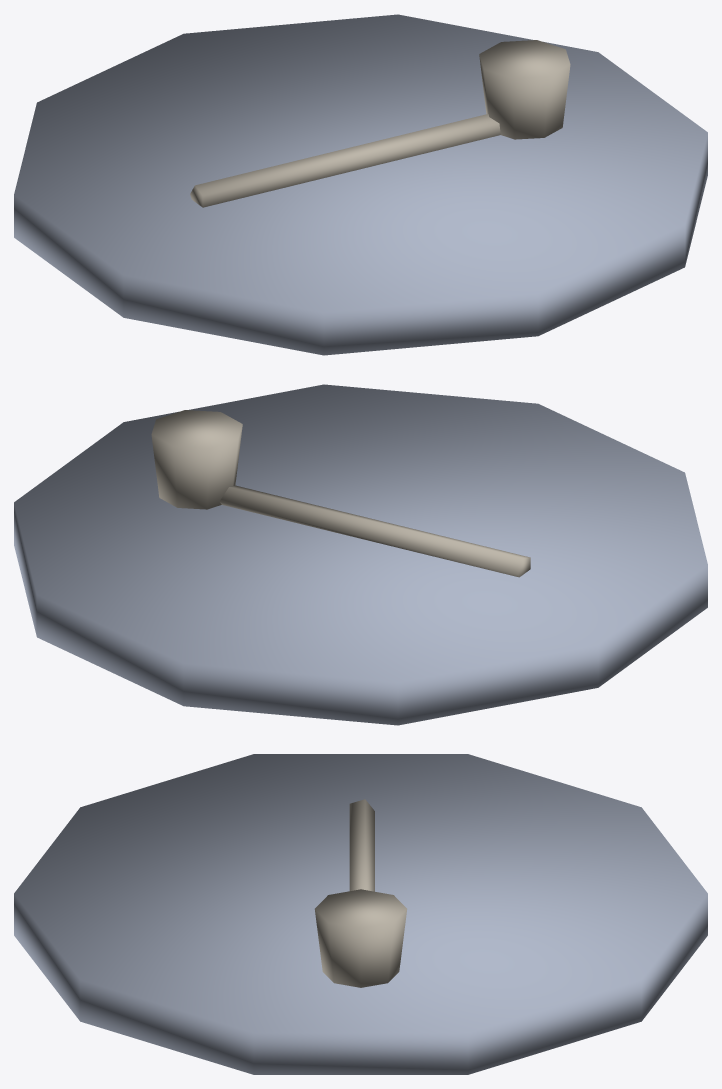
Rendered from clay_pipe.glb.
The picture shows the model from 3 angles, top to bottom: view 1: azimuth 30°, elevation 25°; view 2: azimuth 150°, elevation 25°; view 3: azimuth 270°, elevation 25°; orthographic projection. The views are drawn at different scales.
Visible parts, largest first — view 1: clay_pipe; view 2: clay_pipe; view 3: clay_pipe.
Boxes of the visible parts, box(x1,y1,x2,y2) form: clay_pipe: box(14, 14, 707, 355); clay_pipe: box(14, 384, 707, 725); clay_pipe: box(14, 754, 707, 1074).
Bounding box in the file's own units: 0.2853 × 0.05 × 0.3.
